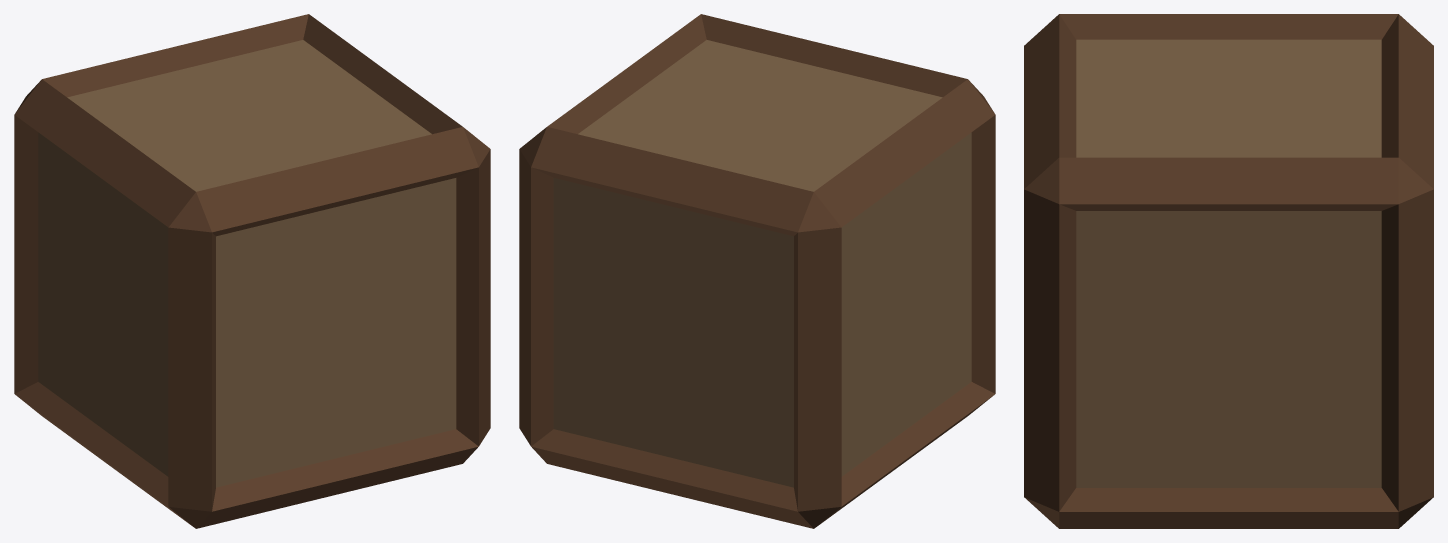
Rendered from Crate.fbx.
3 renders of one model, left to right at view 1: azimuth 30°, elevation 25°; view 2: azimuth 150°, elevation 25°; view 3: azimuth 270°, elevation 25°, orthographic. The views are drawn at different scales.
Visible parts, largest first — view 1: Model; view 2: Model; view 3: Model.
Part boxes in pixels (<box>): Model: <box>14,14,490,528</box>; Model: <box>519,14,995,528</box>; Model: <box>1024,14,1433,528</box>.
Size of the model in its own units: 1.66 by 1.66 by 1.66.
